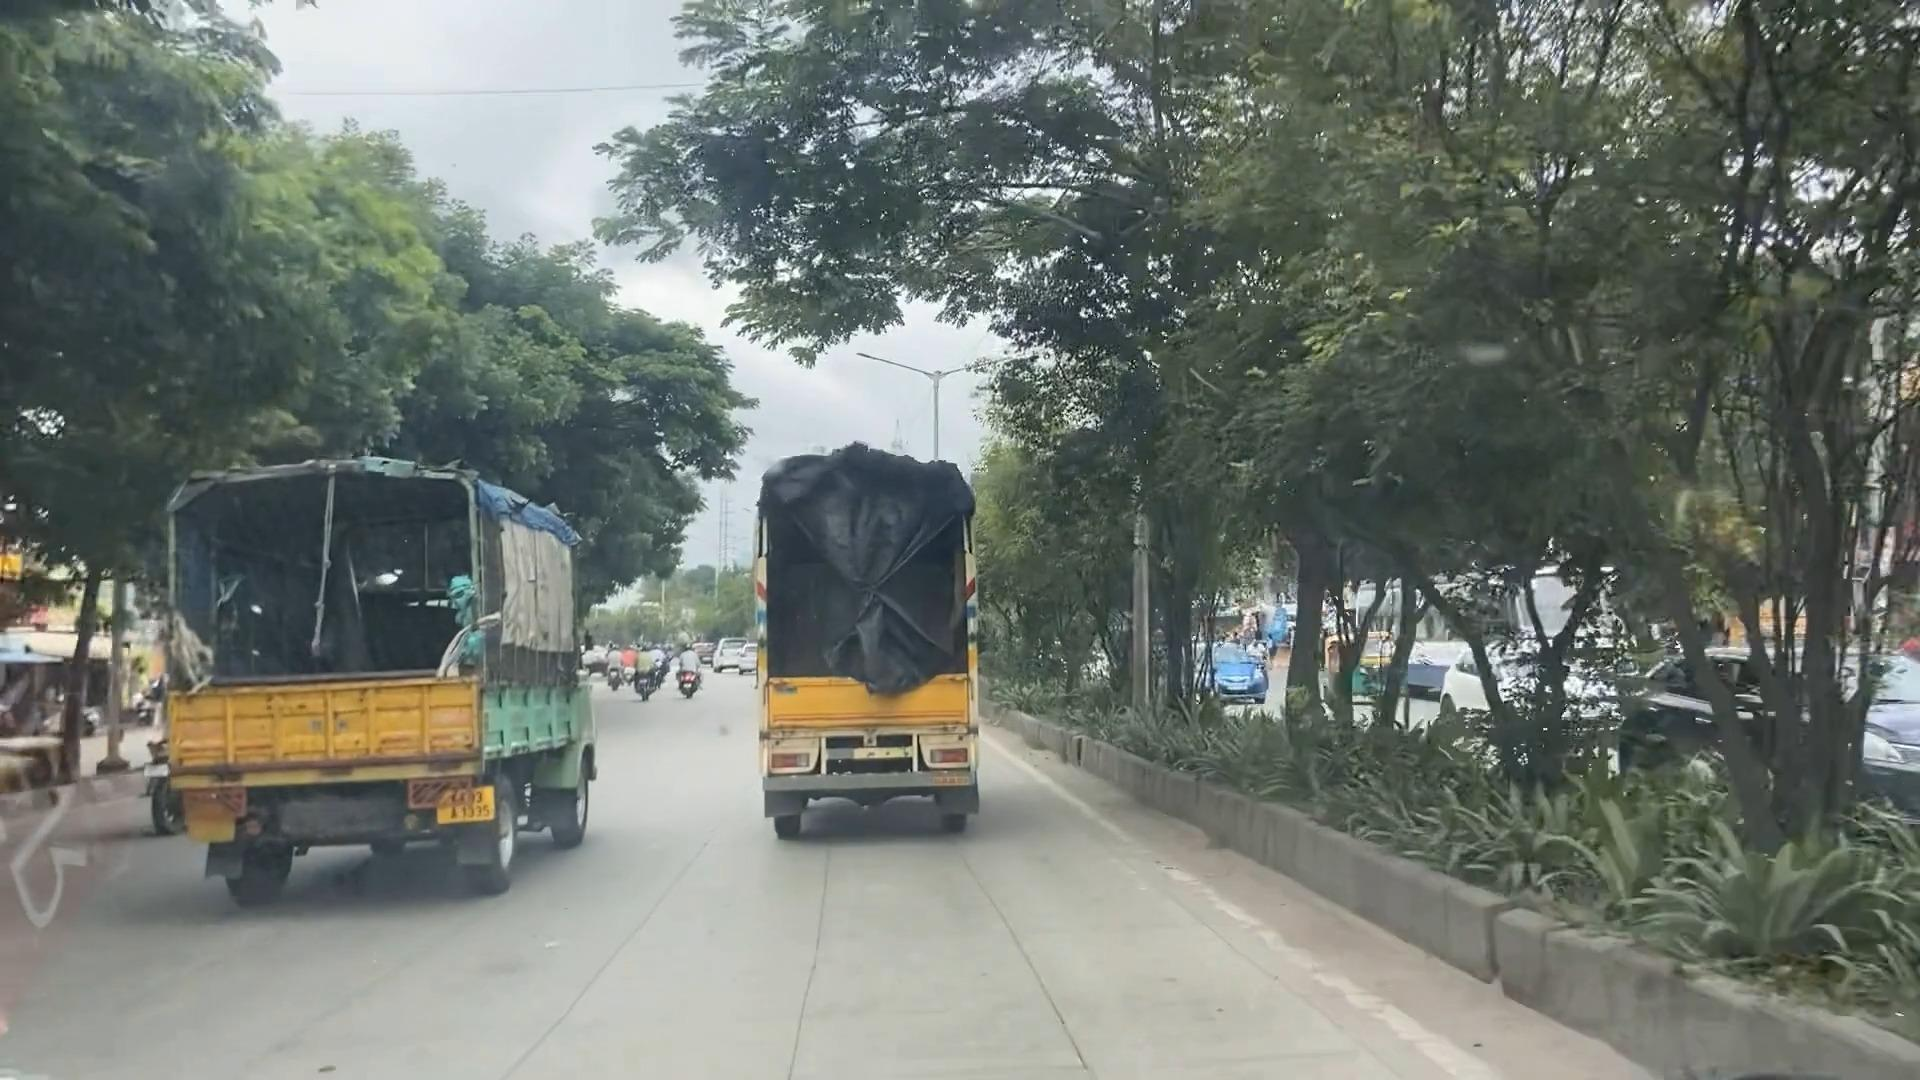HMV: (154, 459, 617, 948), (683, 376, 1029, 901)
